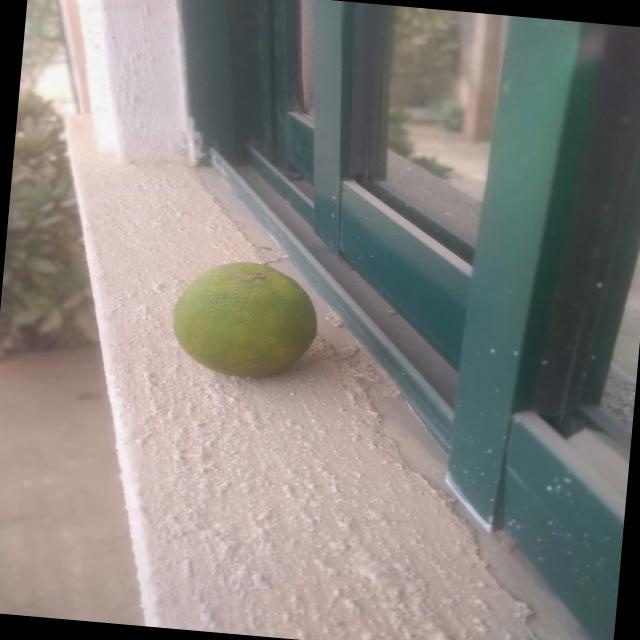agrume: (121, 217, 368, 409)
